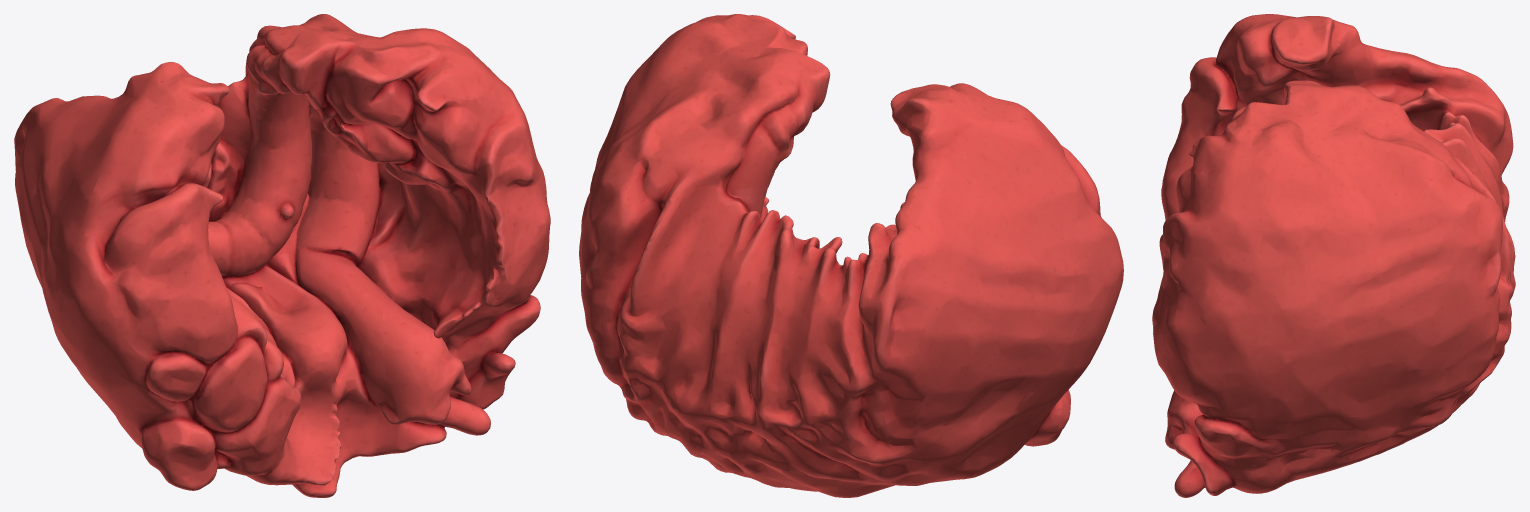
File: Env_StomachChamber.glb
3 views of the same model, side by side, from view 1: azimuth 30°, elevation 25°; view 2: azimuth 150°, elevation 25°; view 3: azimuth 270°, elevation 25° (orthographic). The views are drawn at different scales.
Size of the model in its own units: 1.9 by 1.62 by 1.31.
1 material, 1 textured.
